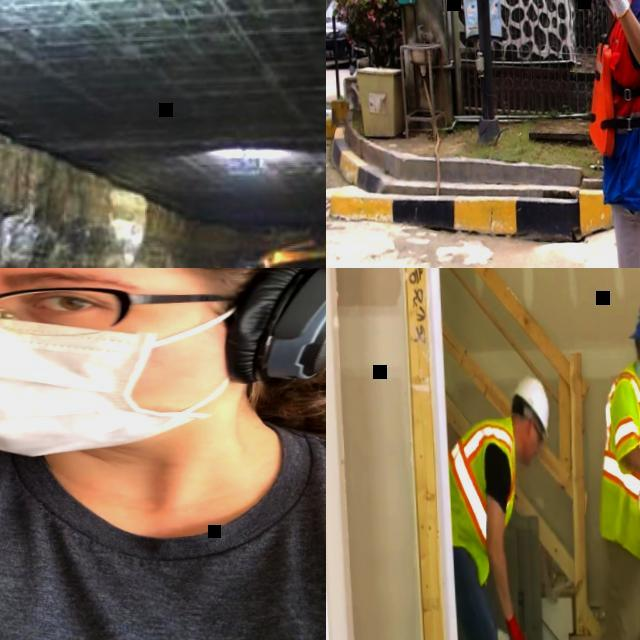helmet: (509, 373, 548, 439), (626, 293, 640, 341)
machinery: (185, 229, 326, 268)
mask: (0, 301, 257, 462)
no_mask: (516, 422, 533, 464)
no_vest: (0, 432, 326, 640)
person: (0, 268, 326, 640), (443, 370, 562, 640), (554, 291, 640, 640), (582, 0, 640, 268)
vehicle: (326, 0, 365, 68)
vest: (445, 413, 517, 580), (578, 1, 640, 158), (591, 364, 640, 534)
